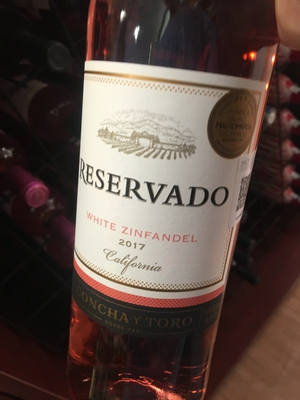reservado white zinfandel: (61, 8, 278, 383)
